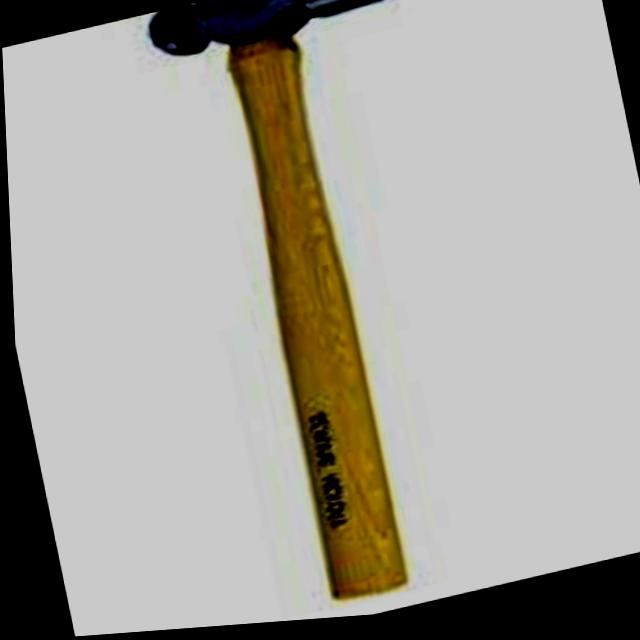hammer: (130, 0, 536, 632)
